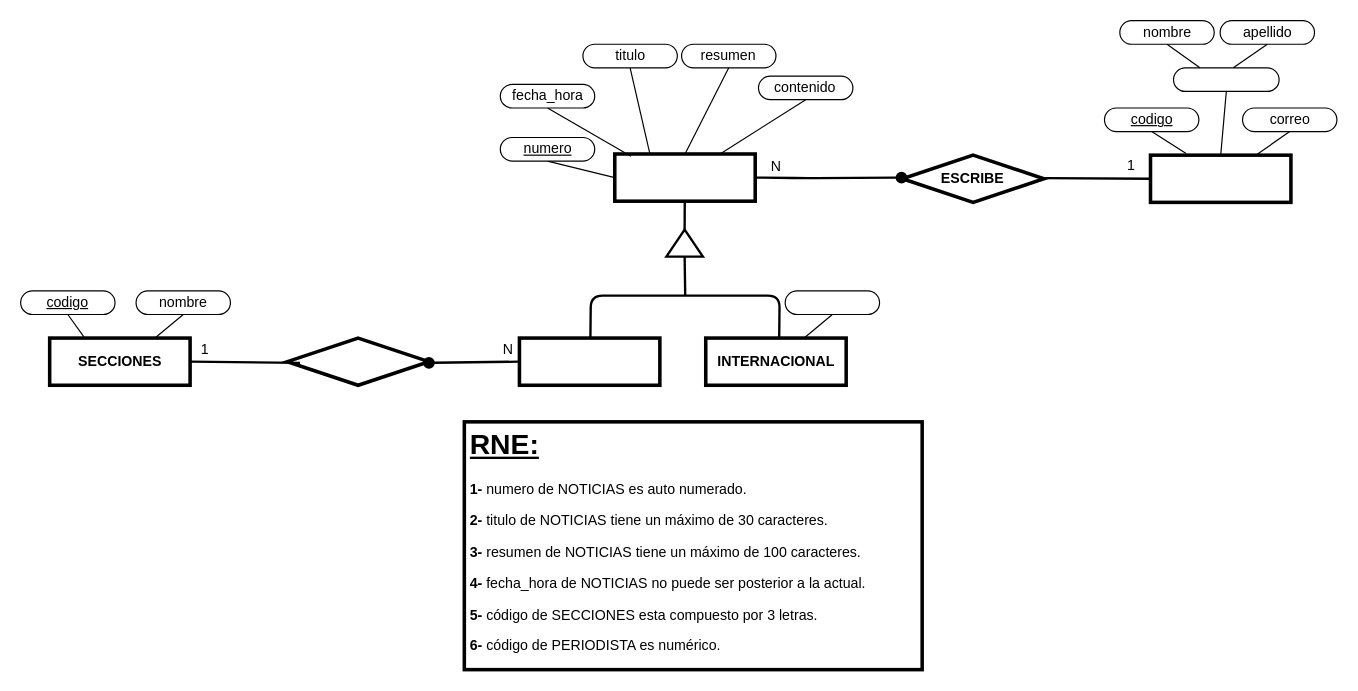
Image size: 1358x691. Some labels were removed from this diagram. The box of each missing label's shape, as (x1, y1, x2, y2) in pixels:
NACIONAL: (517, 336, 661, 386)
nombre_comp: (1172, 67, 1279, 91)
NOTICIAS: (612, 152, 756, 202)
pais_origen: (784, 290, 880, 314)
PERIODISTA: (1148, 153, 1292, 204)
PERTENECE: (285, 336, 430, 386)
